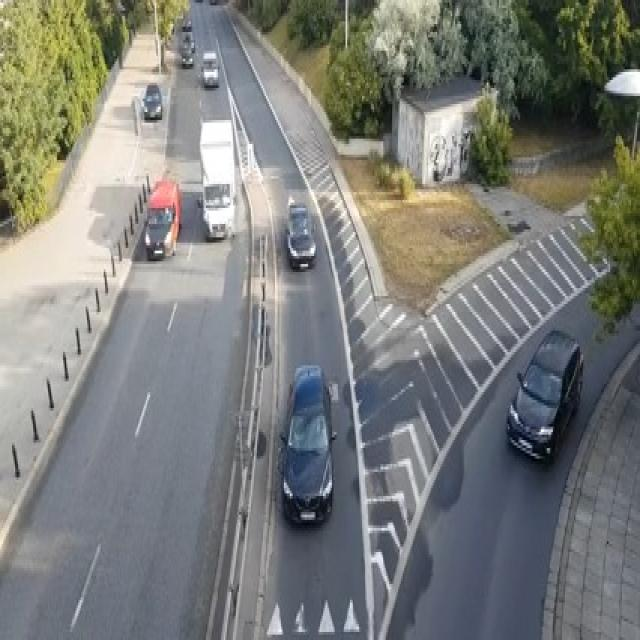bus: (197, 117, 236, 240)
car: (505, 328, 583, 464), (276, 363, 336, 525), (284, 195, 315, 269), (141, 83, 162, 120), (200, 51, 219, 85), (179, 29, 194, 51), (180, 48, 194, 67), (182, 16, 191, 29)
